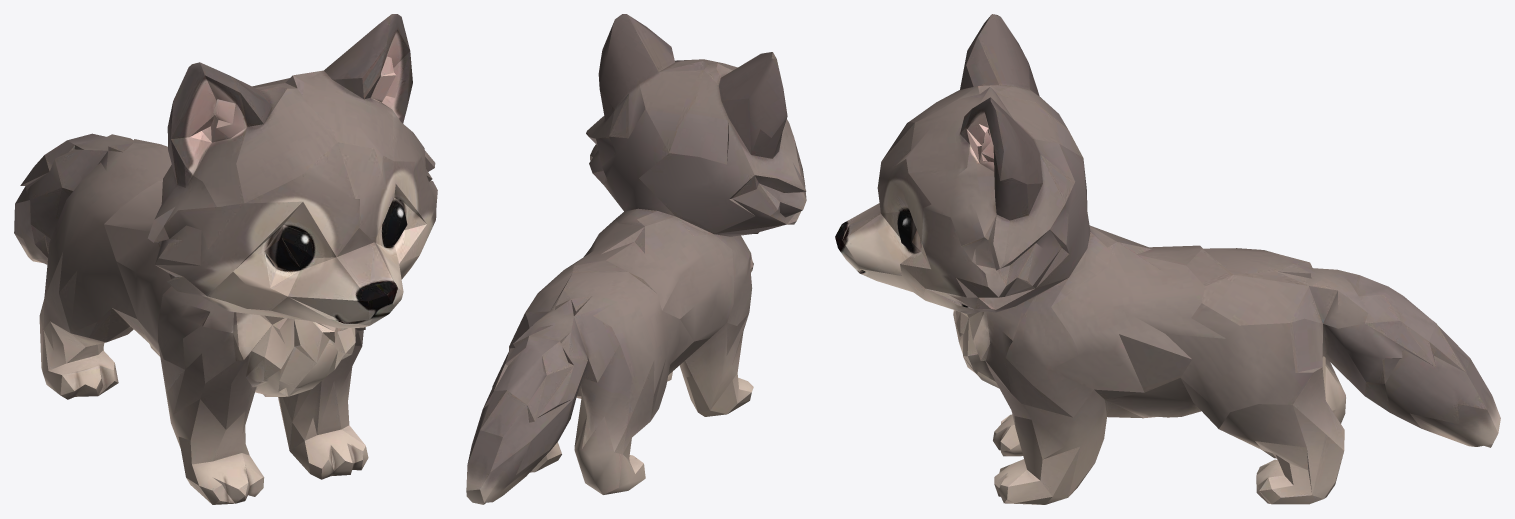
File: toy-wolf.prefab.glb
3 renders of one model, left to right at view 1: azimuth 30°, elevation 25°; view 2: azimuth 150°, elevation 25°; view 3: azimuth 270°, elevation 25°, orthographic. The views are drawn at different scales.
Parts seen in each view (by area): view 1: Prize_Batch0; view 2: Prize_Batch0; view 3: Prize_Batch0.
Boxes of the visible parts, bbox=[...] form: Prize_Batch0: bbox=[14, 14, 437, 504]; Prize_Batch0: bbox=[466, 14, 806, 504]; Prize_Batch0: bbox=[835, 14, 1500, 504].
Size of the model in its own units: 0.0146 by 0.0221 by 0.032.
1 material, 1 textured.
